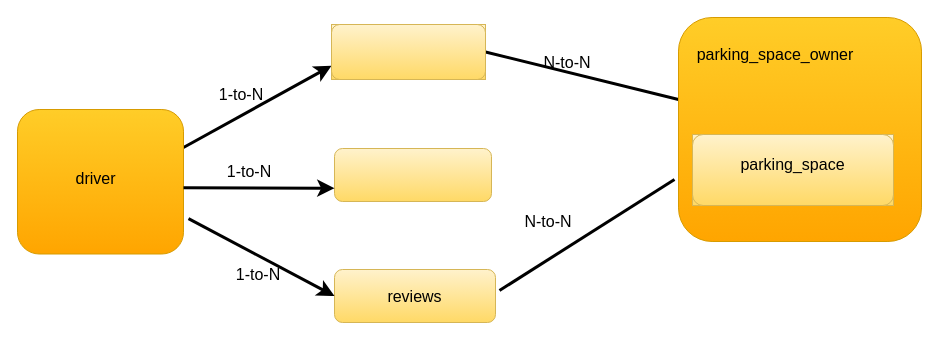
Some shapes in this 939 by 340 pixel diagram are drawn without their labels. The shapes that lost their labels are listed below. From the top down, each one's box as (x1, y1, x2, y2) in pixels, then its label:
(330, 24, 486, 80): reservation
(334, 148, 492, 202): payment
